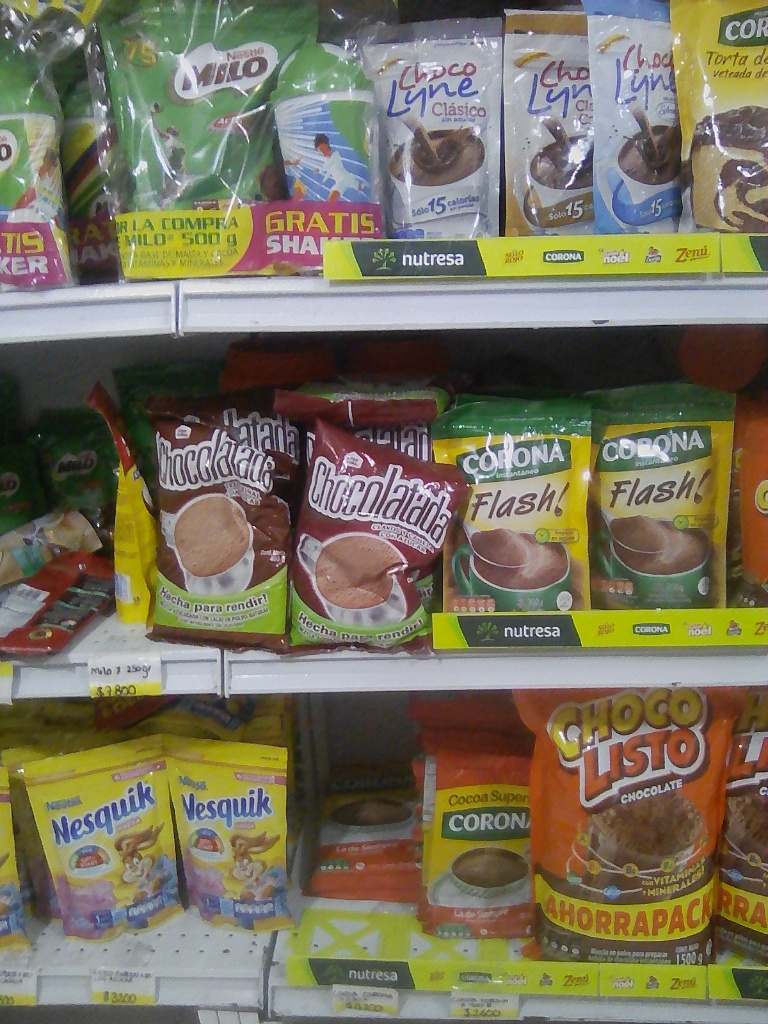COL0170103DYP1,500: (727, 690, 768, 959)
COL0170103TRR30000: (731, 411, 766, 605)
COL0170203DYP10000: (40, 423, 116, 524)
COL0170203DYP50000: (94, 0, 322, 273)
COL0170305DYP20000: (167, 734, 296, 938)
